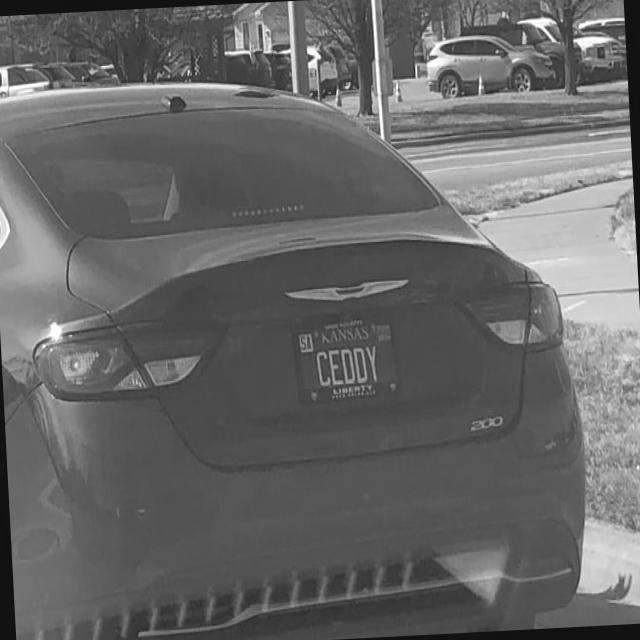LicensePlate: (289, 308, 403, 408)
